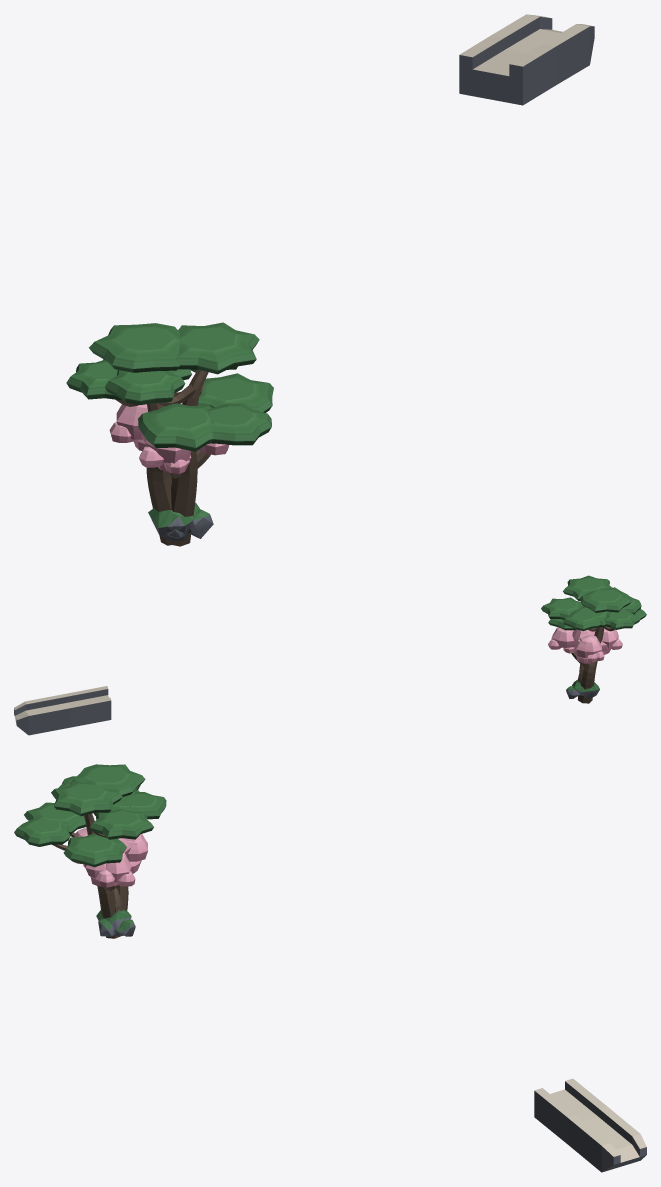
File: StartingIsland_Nature.fbx
The picture shows the model from 3 angles, top to bottom: view 1: azimuth 30°, elevation 25°; view 2: azimuth 150°, elevation 25°; view 3: azimuth 270°, elevation 25°; orthographic projection. The views are drawn at different scales.
Parts seen in each view (by area): view 1: SI_SpiritPineB, SI_SpiritPineA, SI_SpringSpillway, SI_BlossomTreeA, SI_MossRockA, SI_BlossomTreeB; view 2: SI_SpringSpillway, SI_SpiritPineB, SI_SpiritPineA, SI_BlossomTreeB, SI_BlossomTreeA, SI_MossRockA; view 3: SI_SpringSpillway, SI_SpiritPineA, SI_SpiritPineB, SI_BlossomTreeB, SI_BlossomTreeA, SI_MossRockA.
Boxes of the visible parts, x1=… form: SI_SpiritPineB: x1=66, y1=323, x2=273, y2=545; SI_SpiritPineA: x1=103, y1=322, x2=271, y2=546; SI_SpringSpillway: x1=459, y1=14, x2=594, y2=105; SI_BlossomTreeA: x1=109, y1=392, x2=228, y2=473; SI_MossRockA: x1=148, y1=503, x2=213, y2=541; SI_BlossomTreeB: x1=139, y1=433, x2=200, y2=480; SI_SpringSpillway: x1=14, y1=686, x2=111, y2=735; SI_SpiritPineB: x1=548, y1=587, x2=646, y2=703; SI_SpiritPineA: x1=541, y1=575, x2=641, y2=699; SI_BlossomTreeB: x1=548, y1=627, x2=622, y2=683; SI_BlossomTreeA: x1=572, y1=629, x2=610, y2=681; SI_MossRockA: x1=566, y1=679, x2=599, y2=698; SI_SpringSpillway: x1=534, y1=1078, x2=646, y2=1172; SI_SpiritPineA: x1=14, y1=776, x2=153, y2=938; SI_SpiritPineB: x1=24, y1=764, x2=166, y2=935; SI_BlossomTreeB: x1=74, y1=828, x2=148, y2=912; SI_BlossomTreeA: x1=73, y1=834, x2=147, y2=911; SI_MossRockA: x1=96, y1=909, x2=135, y2=936.
Size of the model in its own units: 76.17 by 17.75 by 68.49.
1 material, 1 textured.
